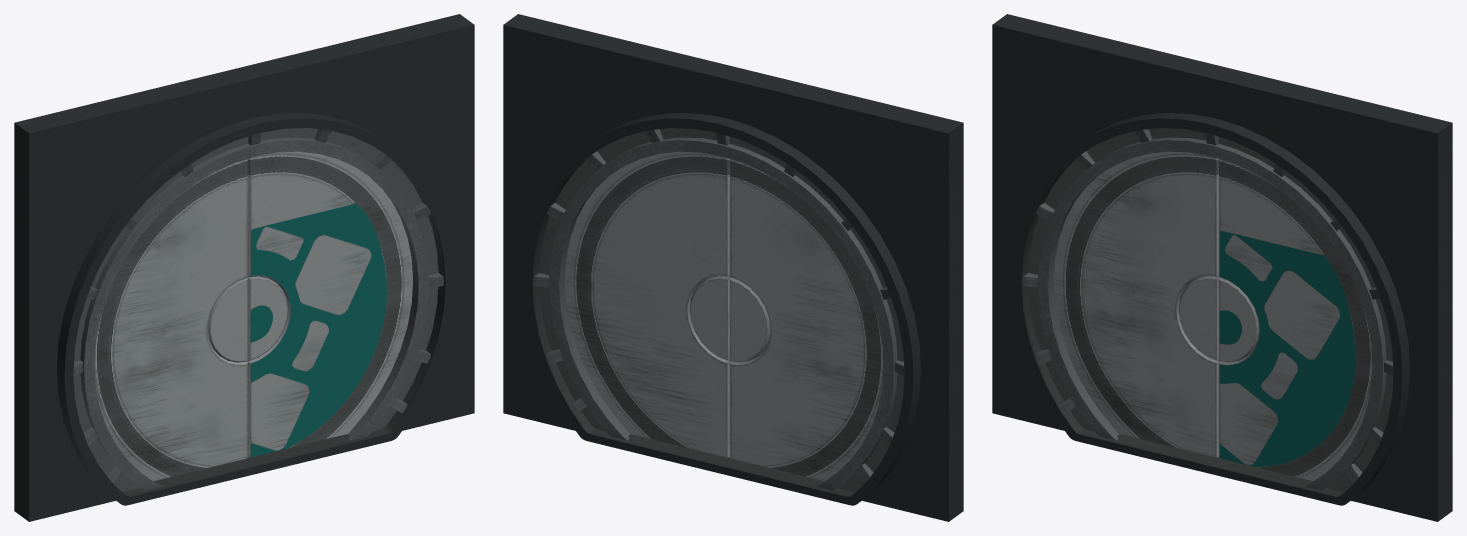
Rendered from Door (3).fbx.
3 views of the same model, side by side, from view 1: azimuth 30°, elevation 25°; view 2: azimuth 150°, elevation 25°; view 3: azimuth 330°, elevation 25° (orthographic).
Visible parts, largest first — view 1: Cube, lp_circle_mid_001, lp_door_right_001, lp_door_left_001, lp_center_mini_right_001, lp_center_mini_left_001; view 2: Cube, lp_circle_mid_001, lp_door_right_001, lp_door_left_001, lp_center_mini_right_001, lp_center_mini_left_001; view 3: Cube, lp_circle_mid_001, lp_door_left_001, lp_door_right_001, lp_center_mini_left_001, lp_center_mini_right_001.
Part boxes in pixels (<box>): Cube: <box>14,14,474,521</box>; lp_circle_mid_001: <box>57,113,454,505</box>; lp_door_right_001: <box>248,151,412,457</box>; lp_door_left_001: <box>94,159,247,481</box>; lp_center_mini_right_001: <box>248,276,288,361</box>; lp_center_mini_left_001: <box>208,277,247,362</box>; Cube: <box>503,14,963,521</box>; lp_circle_mid_001: <box>523,113,920,505</box>; lp_door_right_001: <box>565,151,729,457</box>; lp_door_left_001: <box>730,159,883,481</box>; lp_center_mini_right_001: <box>689,276,729,361</box>; lp_center_mini_left_001: <box>730,277,769,362</box>; Cube: <box>992,14,1452,521</box>; lp_circle_mid_001: <box>1012,113,1409,505</box>; lp_door_left_001: <box>1054,151,1218,457</box>; lp_door_right_001: <box>1219,159,1372,481</box>; lp_center_mini_left_001: <box>1178,276,1218,361</box>; lp_center_mini_right_001: <box>1219,277,1258,362</box>.
Bounding box in the file's own units: 3 × 2.5 × 0.3493.
